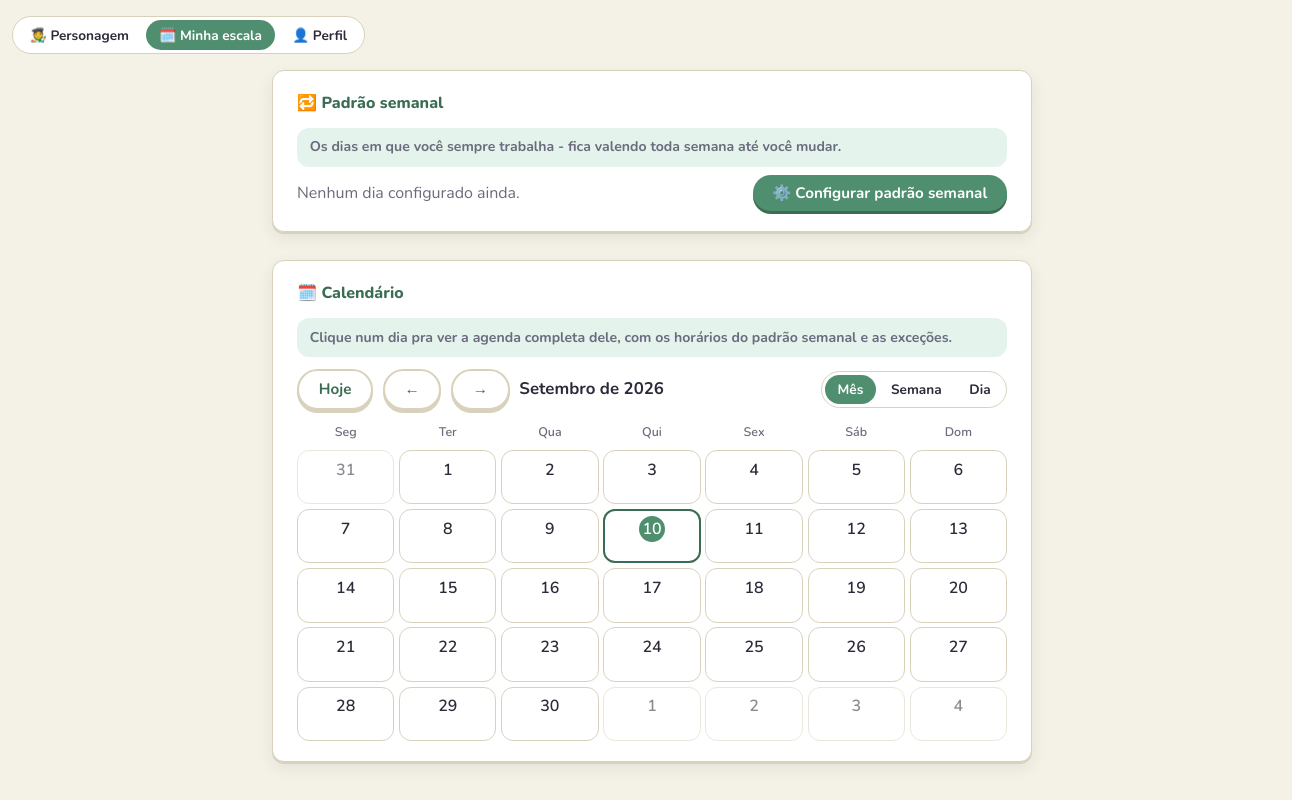
Test: ConfiguracoesPessoaisPage › troca pra aba Perfil e mostra o formulário de nome/e-mail
What coordinates should you click on to do the following:
click the tab "👤 Perfil"
I would click on:
 (320, 35)
Its box is [279, 20, 361, 50].
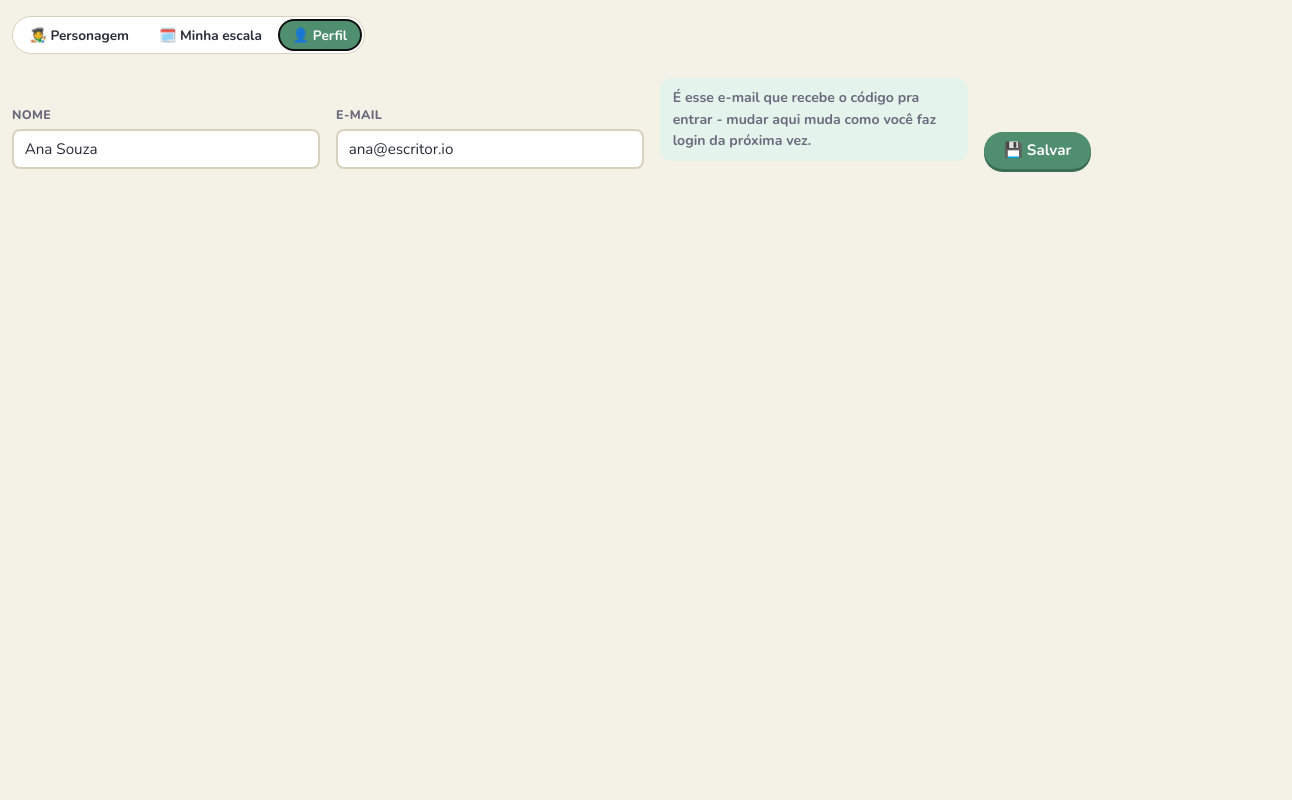
Expected: the field labelled "Nome" holds "Ana Souza", [12, 129, 320, 169]
Expected: the field labelled "E-mail" holds "ana@escritor.io", [336, 129, 644, 169]
